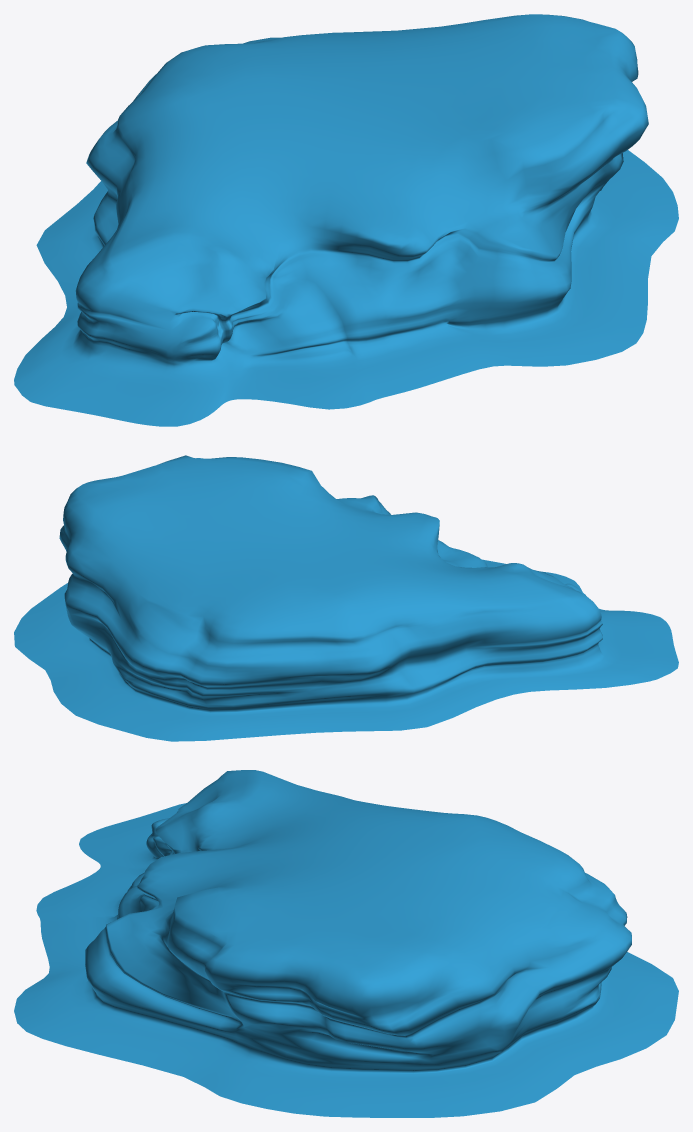
The model's file is Rock_02_Lod0.fbx.
The picture shows the model from 3 angles, top to bottom: view 1: azimuth 30°, elevation 25°; view 2: azimuth 150°, elevation 25°; view 3: azimuth 270°, elevation 25°; orthographic projection. The views are drawn at different scales.
Visible parts, largest first — view 1: Rock_02_Lod0; view 2: Rock_02_Lod0; view 3: Rock_02_Lod0.
Boxes of the visible parts, x1,y1,x2,y2 form: Rock_02_Lod0: [14, 14, 678, 426]; Rock_02_Lod0: [14, 455, 678, 741]; Rock_02_Lod0: [14, 770, 678, 1117].
Bounding box in the file's own units: 3371 × 660 × 2994.
